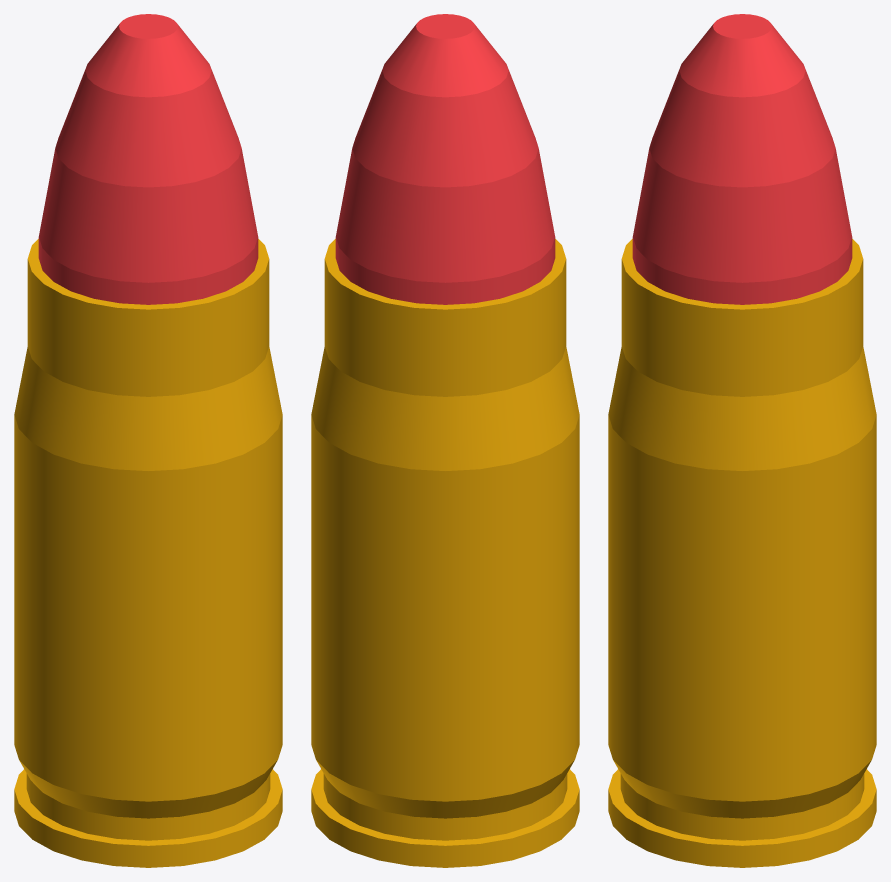
File: ammo_sniper.dae
The picture shows the model from 3 angles, left to right: view 1: azimuth 30°, elevation 25°; view 2: azimuth 150°, elevation 25°; view 3: azimuth 270°, elevation 25°; orthographic projection.
Parts seen in each view (by area): view 1: Group (×2); view 2: Group (×2); view 3: Group (×2).
Boxes of the visible parts, x1,y1,x2,y2 form: Group (×2): (14,14,282,867); Group (×2): (311,14,579,867); Group (×2): (608,14,876,867).
Size of the model in its own units: 0.0421 by 0.1359 by 0.0421.
